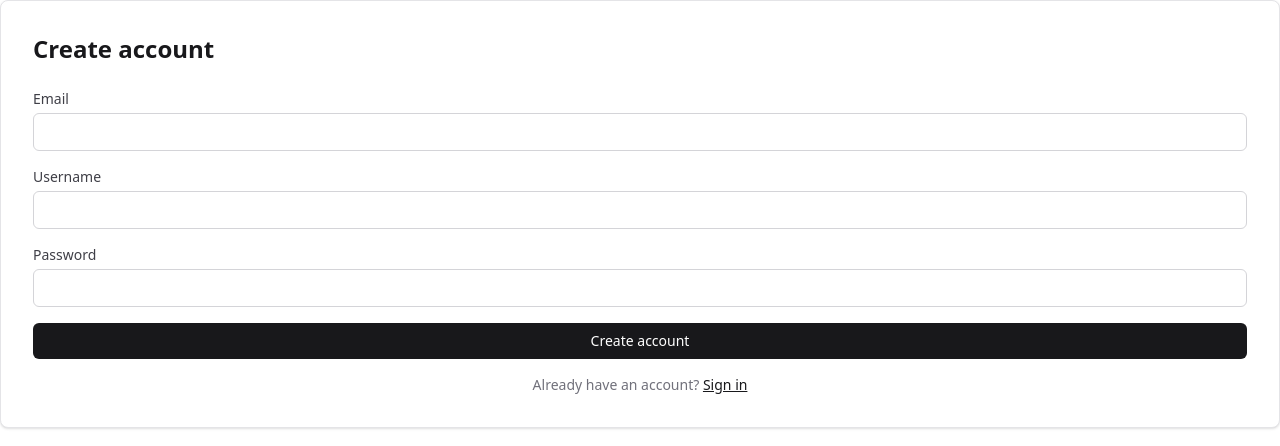
Scenario: Register page › shows pending message after normal registration
This screenshot has width=1280, height=446.
Expected: the heading "Create account" is shown, top-left (33, 32), bottom-right (214, 65)
In the field labelled "Email": (640, 132) top-left (33, 113), bottom-right (1247, 151), type "user@example.com"
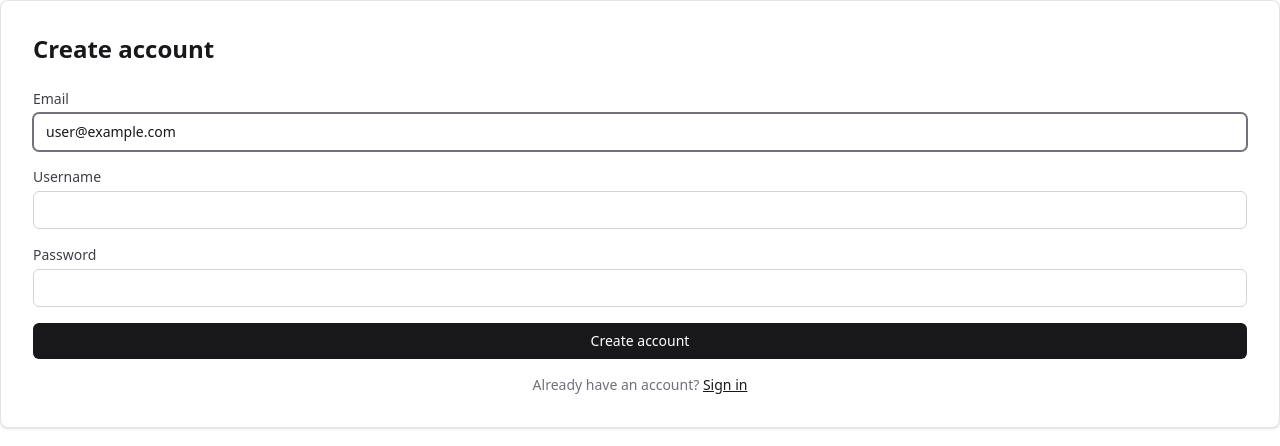
In the field labelled "Username": (640, 210) top-left (33, 191), bottom-right (1247, 229), type "newuser"
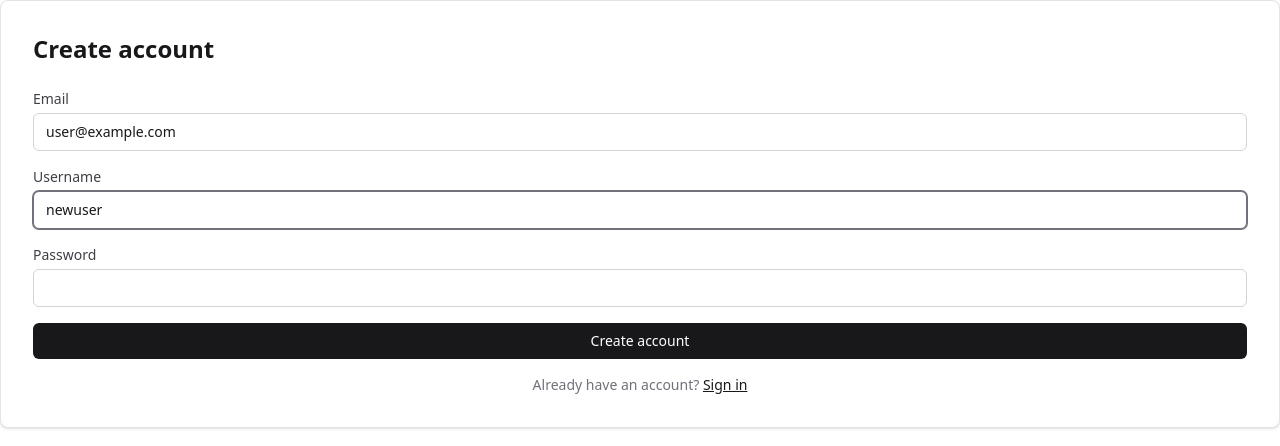
In the password field labelled "Password": (640, 288) top-left (33, 269), bottom-right (1247, 307), type "securepassword123"
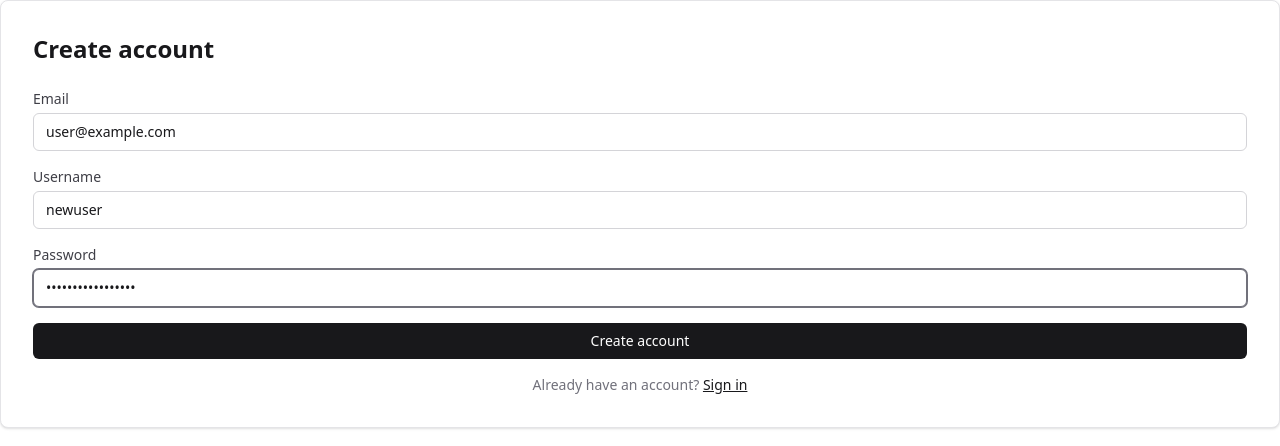
Click the button "Create account": (640, 341) top-left (33, 323), bottom-right (1247, 359)
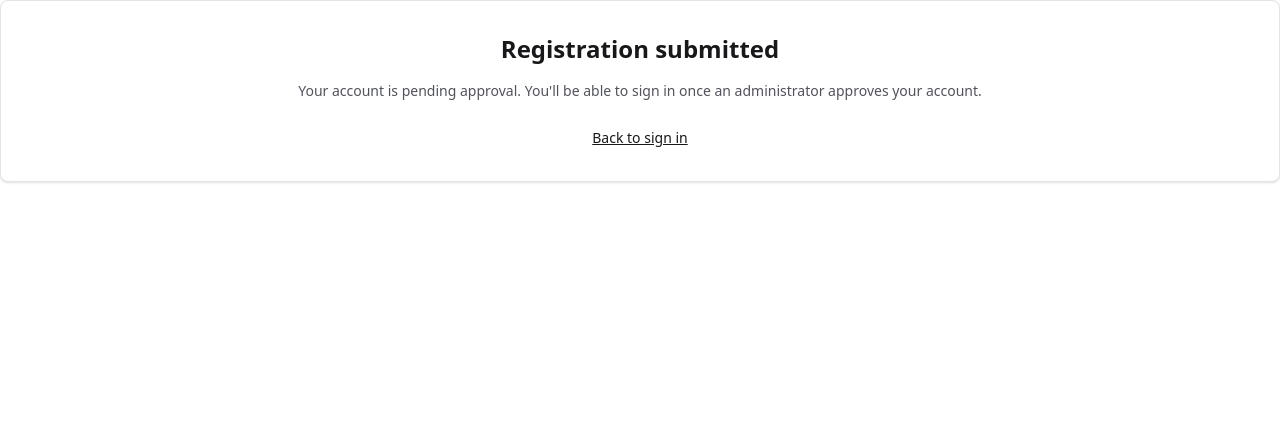
Now the heading "Registration submitted" is shown, box top-left (501, 32), bottom-right (779, 65)
Now the text "pending approval" is shown, box top-left (298, 81), bottom-right (982, 100)
